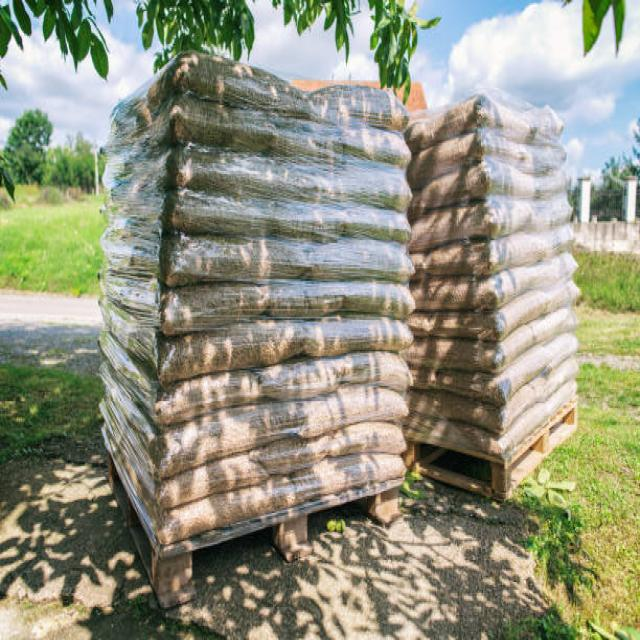Wooden-Pallets: (157, 482, 404, 607), (410, 401, 583, 505)
